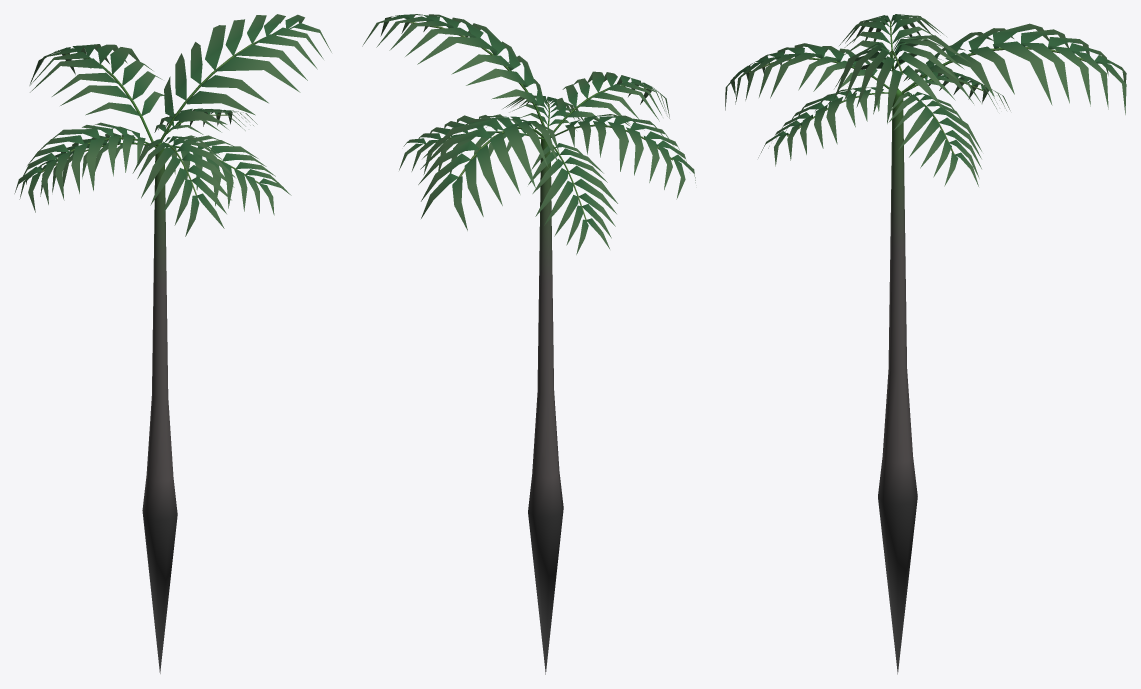
The picture shows the model from 3 angles, left to right: view 1: azimuth 30°, elevation 25°; view 2: azimuth 150°, elevation 25°; view 3: azimuth 270°, elevation 25°; orthographic projection. The views are drawn at different scales.
Visible parts, largest first — view 1: plant.009; view 2: plant.009; view 3: plant.009.
Boxes of the visible parts, x1,y1,x2,y2 form: plant.009: (14, 14, 331, 673); plant.009: (362, 14, 695, 674); plant.009: (725, 14, 1126, 674).
Bounding box in the file's own units: 0.2585 × 0.5 × 0.2664.
